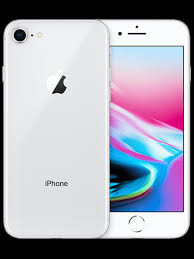iphone: (3, 19, 113, 242)
iphone8: (1, 18, 191, 240)
